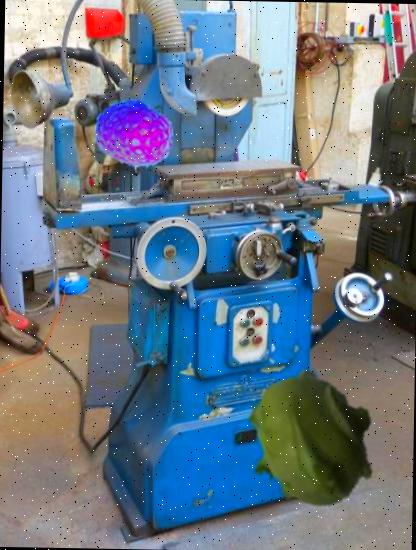Kohlrabi: (238, 368, 382, 512)
Raspberry: (93, 93, 174, 174)
